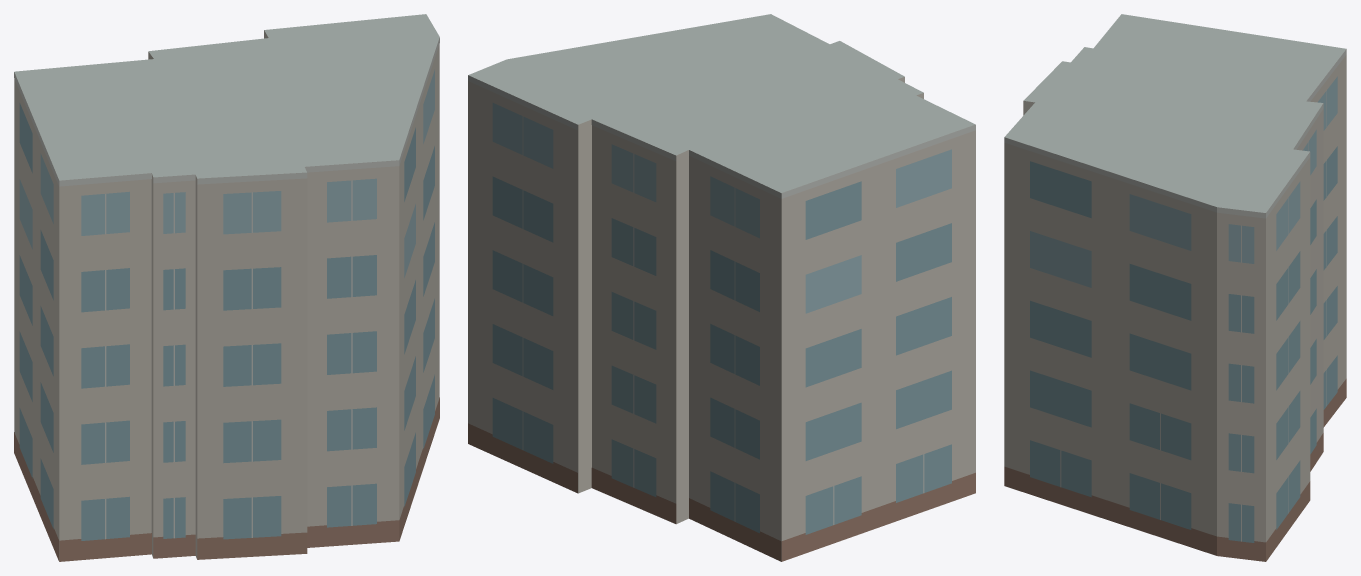
File: survey-upis-32913952.glb
The picture shows the model from 3 angles, left to right: view 1: azimuth 30°, elevation 25°; view 2: azimuth 150°, elevation 25°; view 3: azimuth 270°, elevation 25°; orthographic projection. The views are drawn at different scales.
Visible parts, largest first — view 1: survey-upis-32913952.tmp; view 2: survey-upis-32913952.tmp; view 3: survey-upis-32913952.tmp.
Part boxes in pixels (x1,y1,x2,y2): survey-upis-32913952.tmp: (14,14,439,561); survey-upis-32913952.tmp: (468,14,975,561); survey-upis-32913952.tmp: (1004,14,1346,561).
Bounding box in the file's own units: 19.11 × 15.6 × 13.89.
